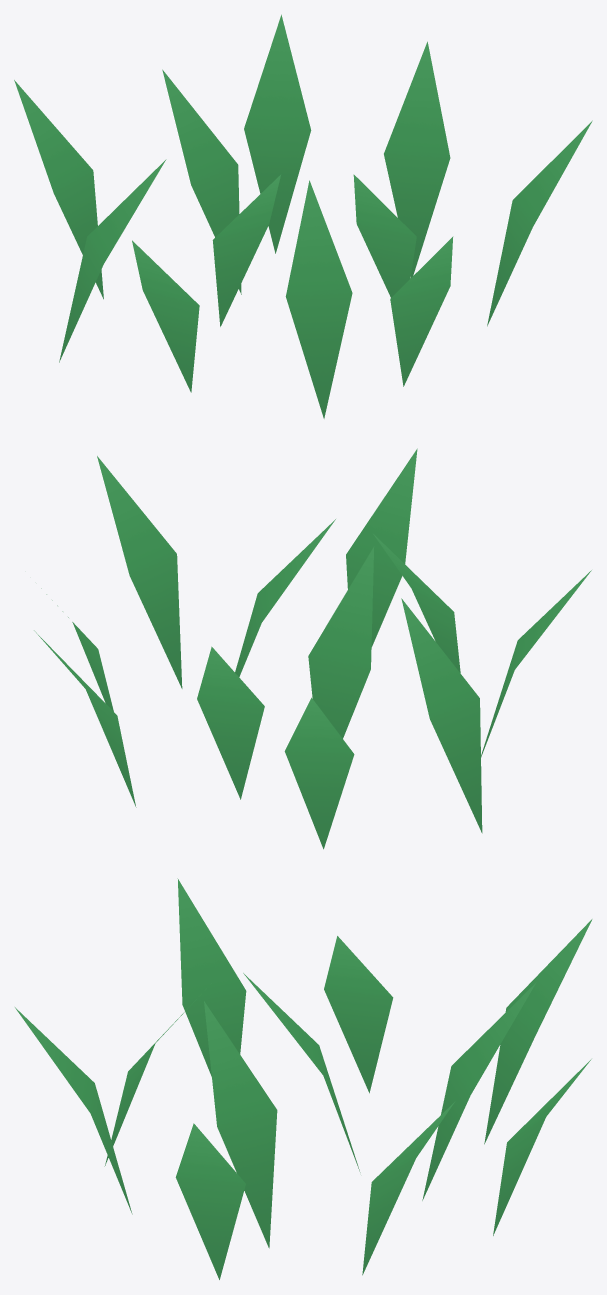
File: Fbx_Grass101.fbx
3 views of the same model, one above another, from view 1: azimuth 30°, elevation 25°; view 2: azimuth 150°, elevation 25°; view 3: azimuth 270°, elevation 25° (orthographic). The views are drawn at different scales.
Visible parts, largest first — view 1: Plane046; view 2: Plane046; view 3: Plane046.
Boxes of the visible parts, box(x1,y1,x2,y2) form: Plane046: box(14, 14, 592, 418); Plane046: box(34, 448, 591, 849); Plane046: box(15, 878, 592, 1279).
Size of the model in its own units: 87.07 by 34.27 by 87.03.
